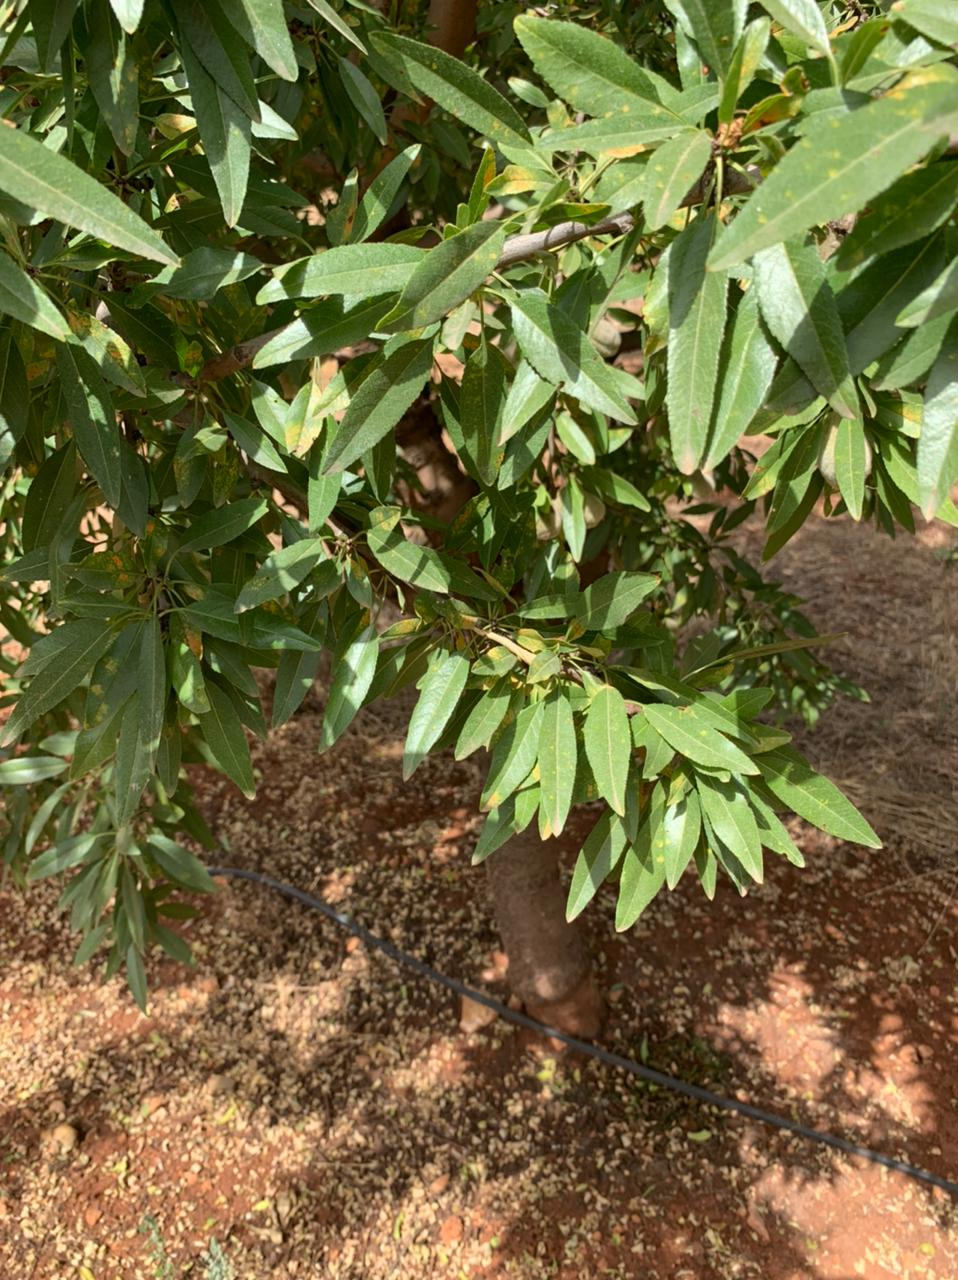polystigma: (704, 77, 958, 275), (64, 308, 154, 402), (477, 699, 545, 818), (85, 11, 139, 160), (637, 125, 706, 237), (79, 619, 150, 729), (64, 557, 164, 596), (320, 167, 363, 250), (283, 379, 329, 454), (482, 164, 562, 199)
